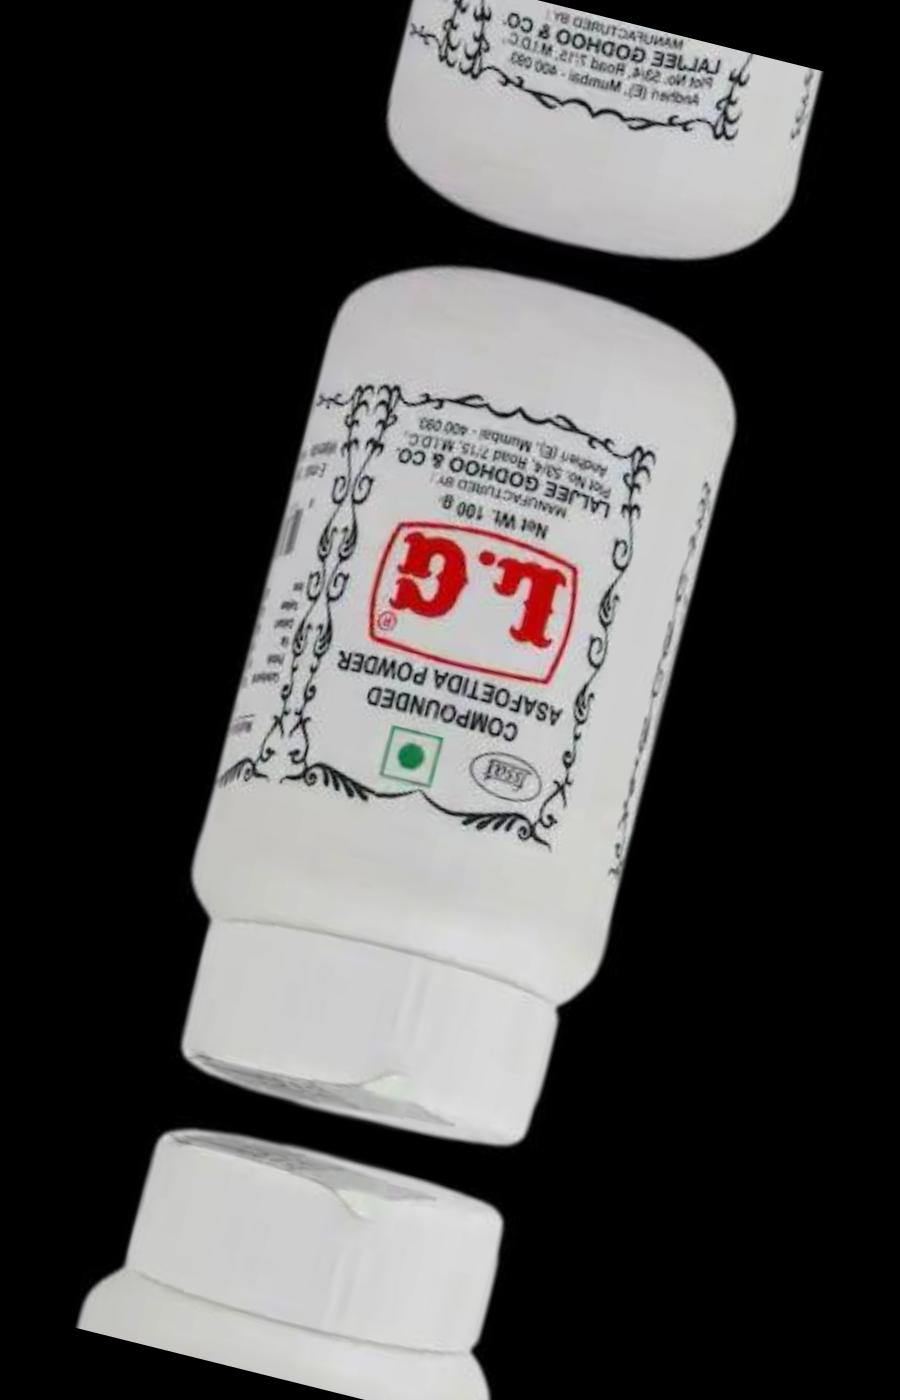LG Compounded Hing 100 g: (141, 235, 751, 1171), (77, 1100, 535, 1400), (361, 0, 817, 291)
